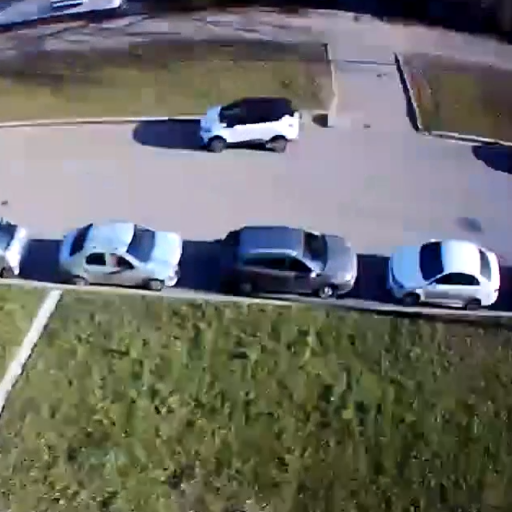Car: (220, 226, 354, 304), (57, 218, 180, 292), (387, 236, 501, 311), (199, 92, 297, 152)
